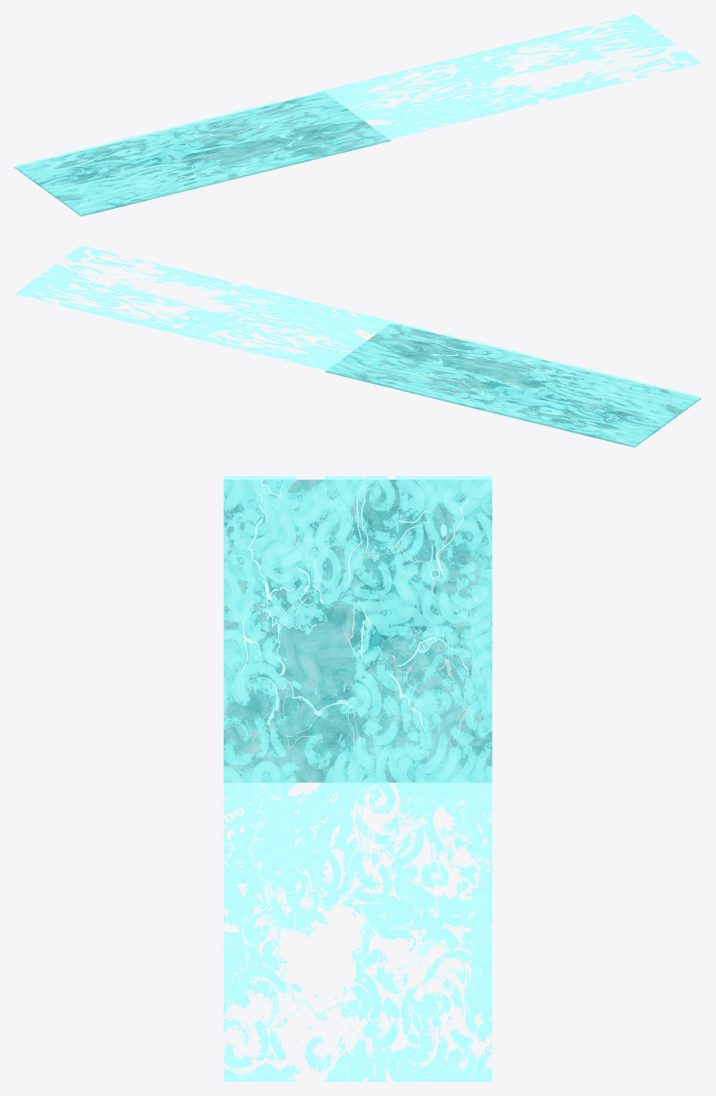
The model's file is entity40746.gltf.
3 views of the same model, one above another, from view 1: azimuth 30°, elevation 25°; view 2: azimuth 150°, elevation 25°; view 3: azimuth 270°, elevation 25° (orthographic). The views are drawn at different scales.
Visible parts, largest first — view 1: node_Water_Plane_01_art, node_Water_FX_1, node_Water_FX_2; view 2: node_Water_Plane_01_art, node_Water_FX_2, node_Water_FX_1; view 3: node_Water_Plane_01_art, node_Water_FX_2, node_Water_FX_1.
Boxes of the visible parts, x1,y1,x2,y2 form: node_Water_Plane_01_art: (14,92,390,216); node_Water_FX_1: (14,90,391,214); node_Water_FX_2: (325,14,701,138); node_Water_Plane_01_art: (325,323,701,447); node_Water_FX_2: (14,245,390,369); node_Water_FX_1: (324,321,701,445); node_Water_Plane_01_art: (223,479,492,782); node_Water_FX_2: (223,779,492,1081); node_Water_FX_1: (223,476,492,778).
Size of the model in its own units: 8 by 0.0227 by 1.5.
